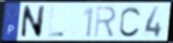1: (83, 6, 95, 38)
4: (143, 5, 165, 39)
C: (118, 5, 143, 39)
L: (47, 6, 65, 38)
N: (20, 5, 47, 40)
R: (93, 5, 118, 39)
